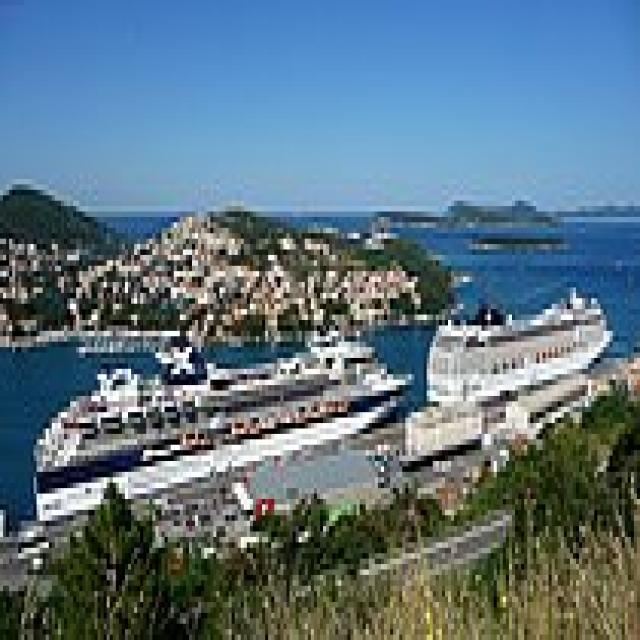Cruise: (28, 320, 414, 521), (420, 272, 616, 402)
